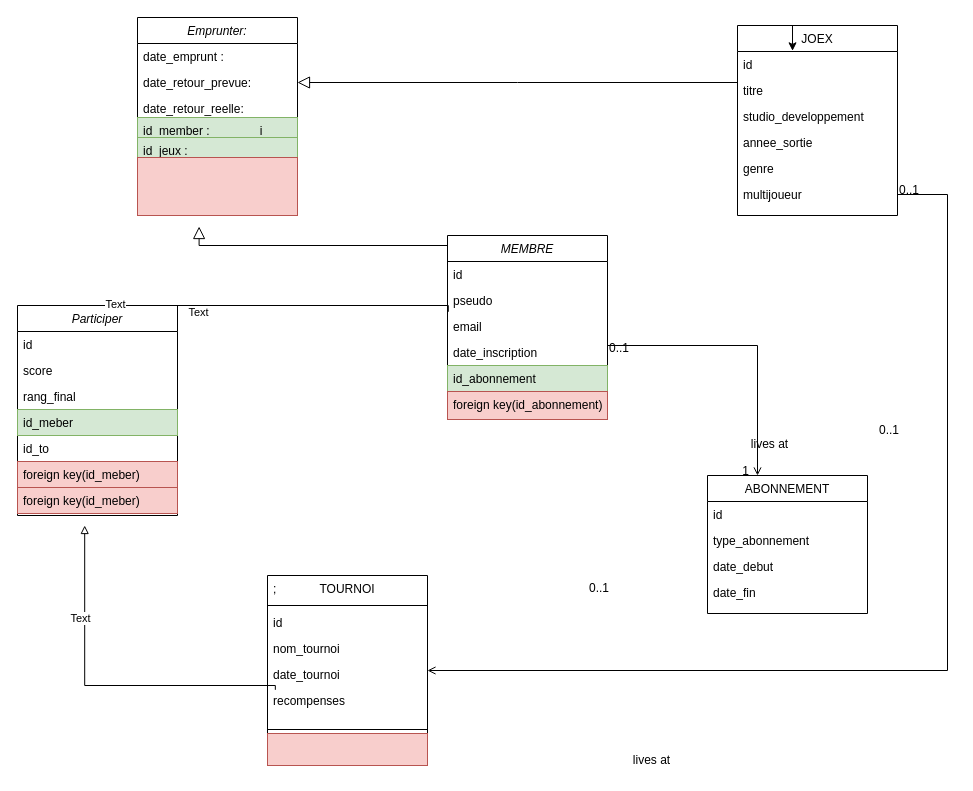
This 973x791 diagram has some shape labels left out. The centre of each missing label's shape, as x and y in pixels:
foreign key(id_jeux): point (347, 749)
foreign key(id_meber) foreign key(id_jeux): point (217, 186)
